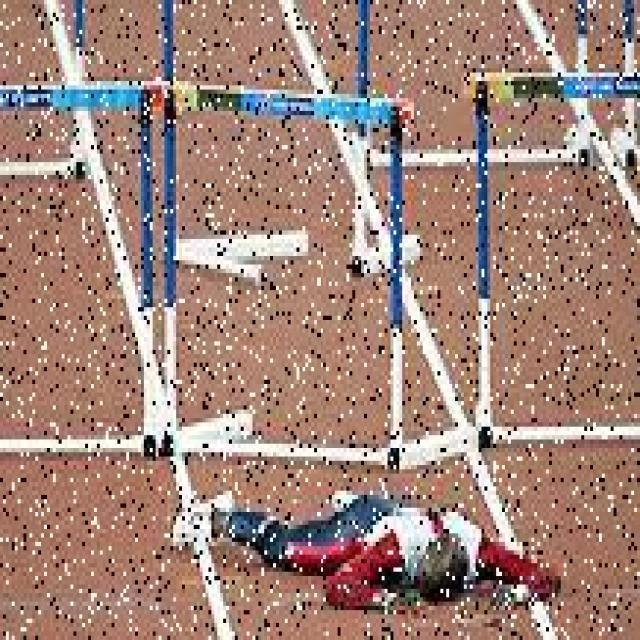fall: (170, 474, 572, 610)
